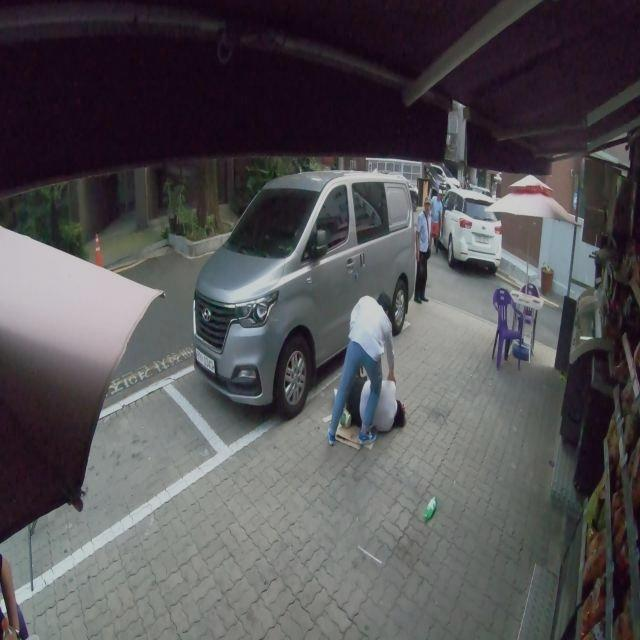fight: (326, 291, 406, 451)
non-fight: (411, 194, 435, 303)
